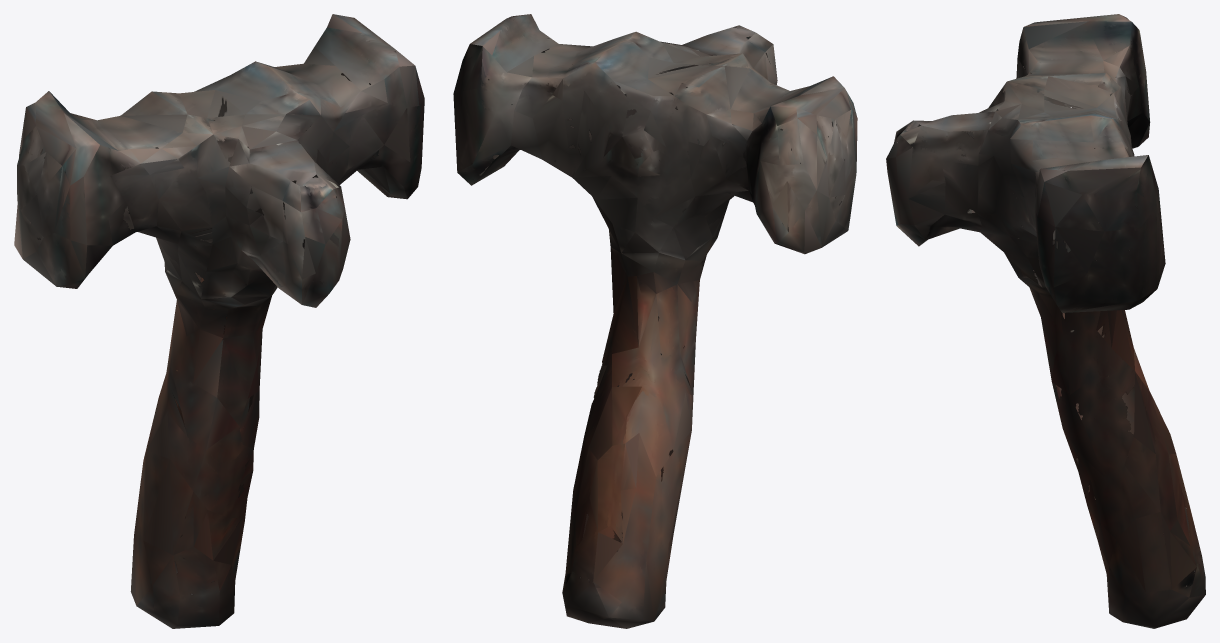
The model's file is 02_smithy.fbx.
The picture shows the model from 3 angles, left to right: view 1: azimuth 30°, elevation 25°; view 2: azimuth 150°, elevation 25°; view 3: azimuth 270°, elevation 25°; orthographic projection. The views are drawn at different scales.
Parts seen in each view (by area): view 1: 02_smithy; view 2: 02_smithy; view 3: 02_smithy.
Boxes of the visible parts, <box> form: 02_smithy: <box>14,14,424,628</box>; 02_smithy: <box>453,14,857,628</box>; 02_smithy: <box>886,14,1205,628</box>.
Size of the model in its own units: 24.42 by 35 by 19.3.
Materials: 1 (1 with a texture image).
